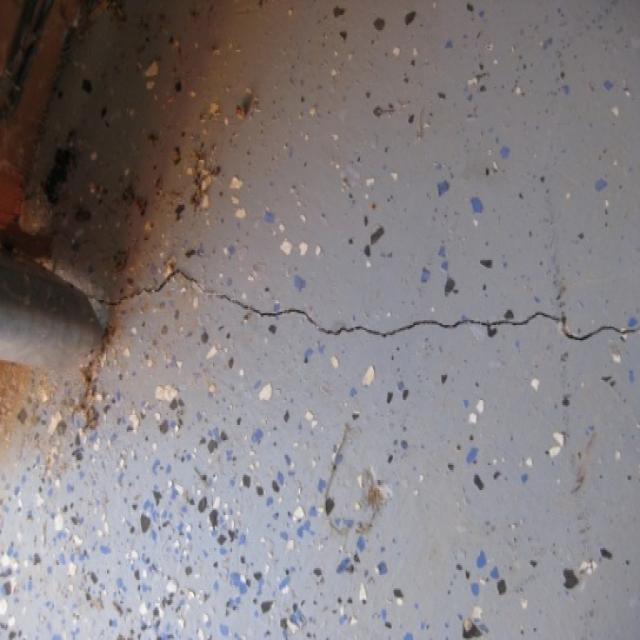Transverse: (78, 262, 640, 342)
